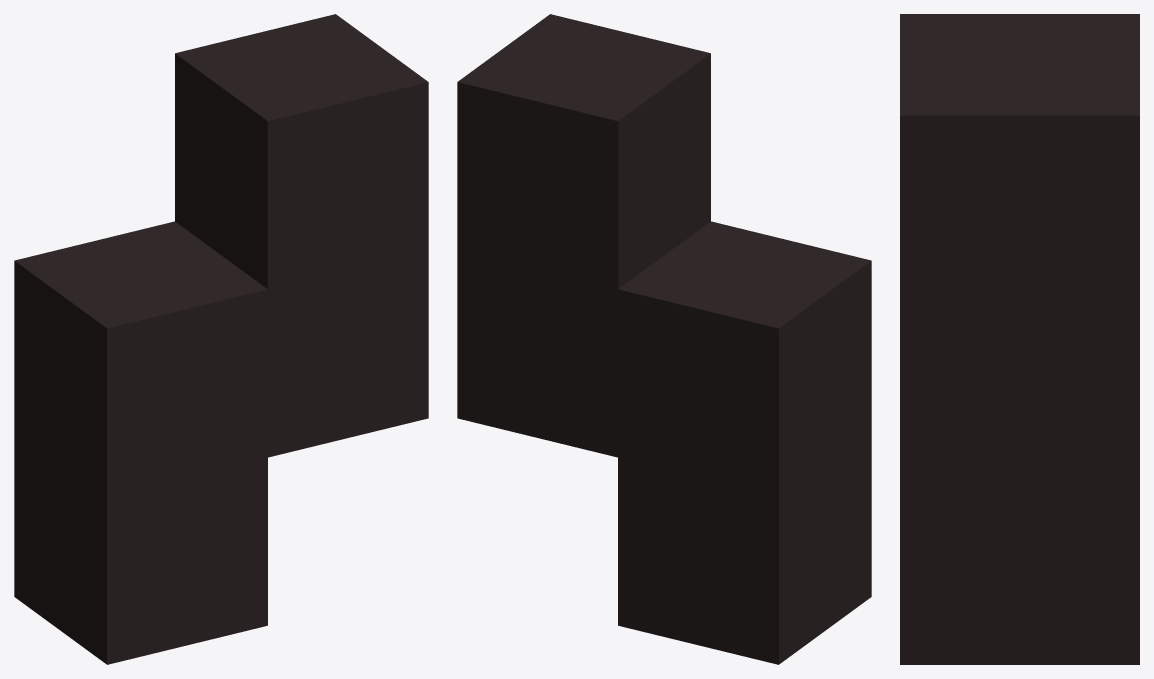
File: Glacial Lord Outer Finger.obj
The picture shows the model from 3 angles, left to right: view 1: azimuth 30°, elevation 25°; view 2: azimuth 150°, elevation 25°; view 3: azimuth 270°, elevation 25°; orthographic projection. The views are drawn at different scales.
Visible parts, largest first — view 1: Glacial Lord Outer Finger; view 2: Glacial Lord Outer Finger; view 3: Glacial Lord Outer Finger.
Part boxes in pixels (x1,y1,x2,y2): Glacial Lord Outer Finger: [14, 14, 428, 664]; Glacial Lord Outer Finger: [457, 14, 871, 664]; Glacial Lord Outer Finger: [900, 14, 1139, 664].
Size of the model in its own units: 2 by 3 by 1.
1 material, 1 textured.
